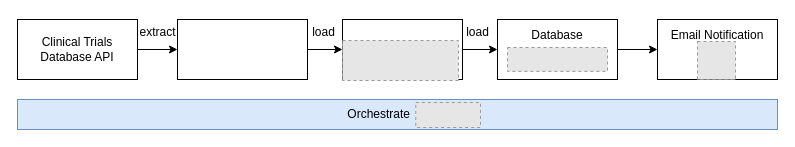
Image size: 795x147. Some labels were removed from this diagram. Grey dashed boxes stand in for pictures. Here are the shapes that lost their labels. From the top down, the box of each, then its label:
(176, 18, 308, 80): Parse Json File to csv
(342, 18, 462, 80): Data Warehourse
